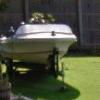Boat: (1, 14, 84, 79)
